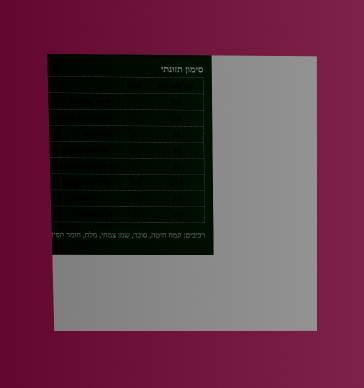carbs: (172, 161, 182, 172)
energy: (169, 96, 183, 108)
fat: (172, 129, 182, 140)
protein: (171, 112, 182, 124)
